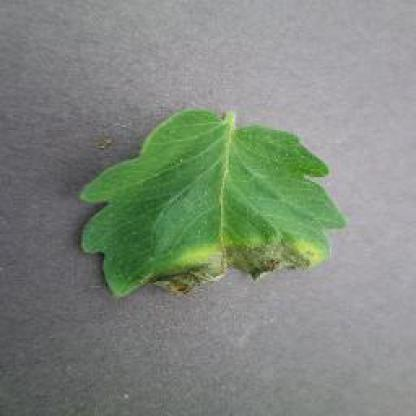bad leaf: (76, 81, 374, 322)
